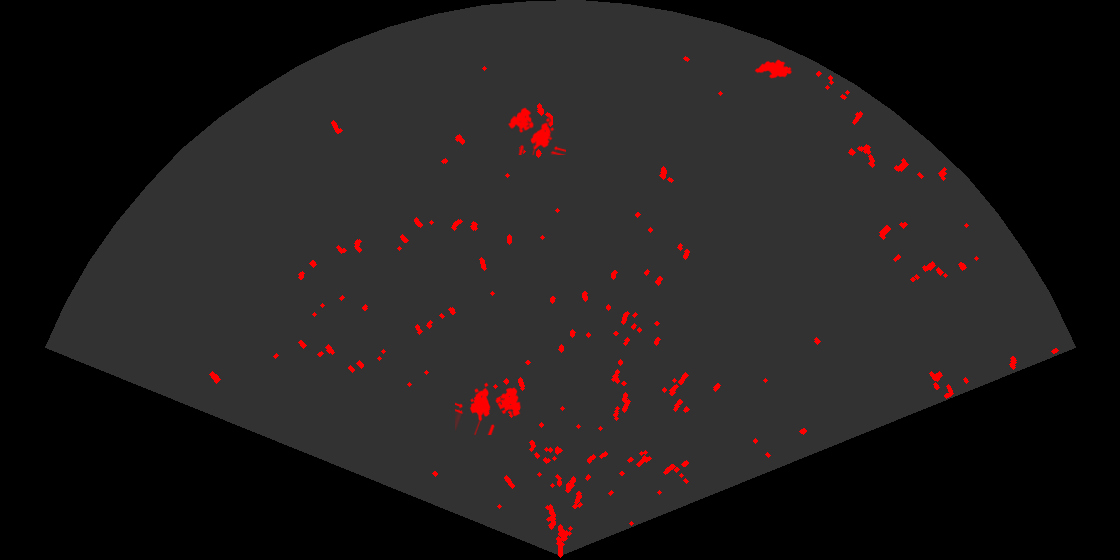AUV: (753, 58, 794, 80)
cage: (455, 381, 523, 435), (506, 106, 566, 155)
